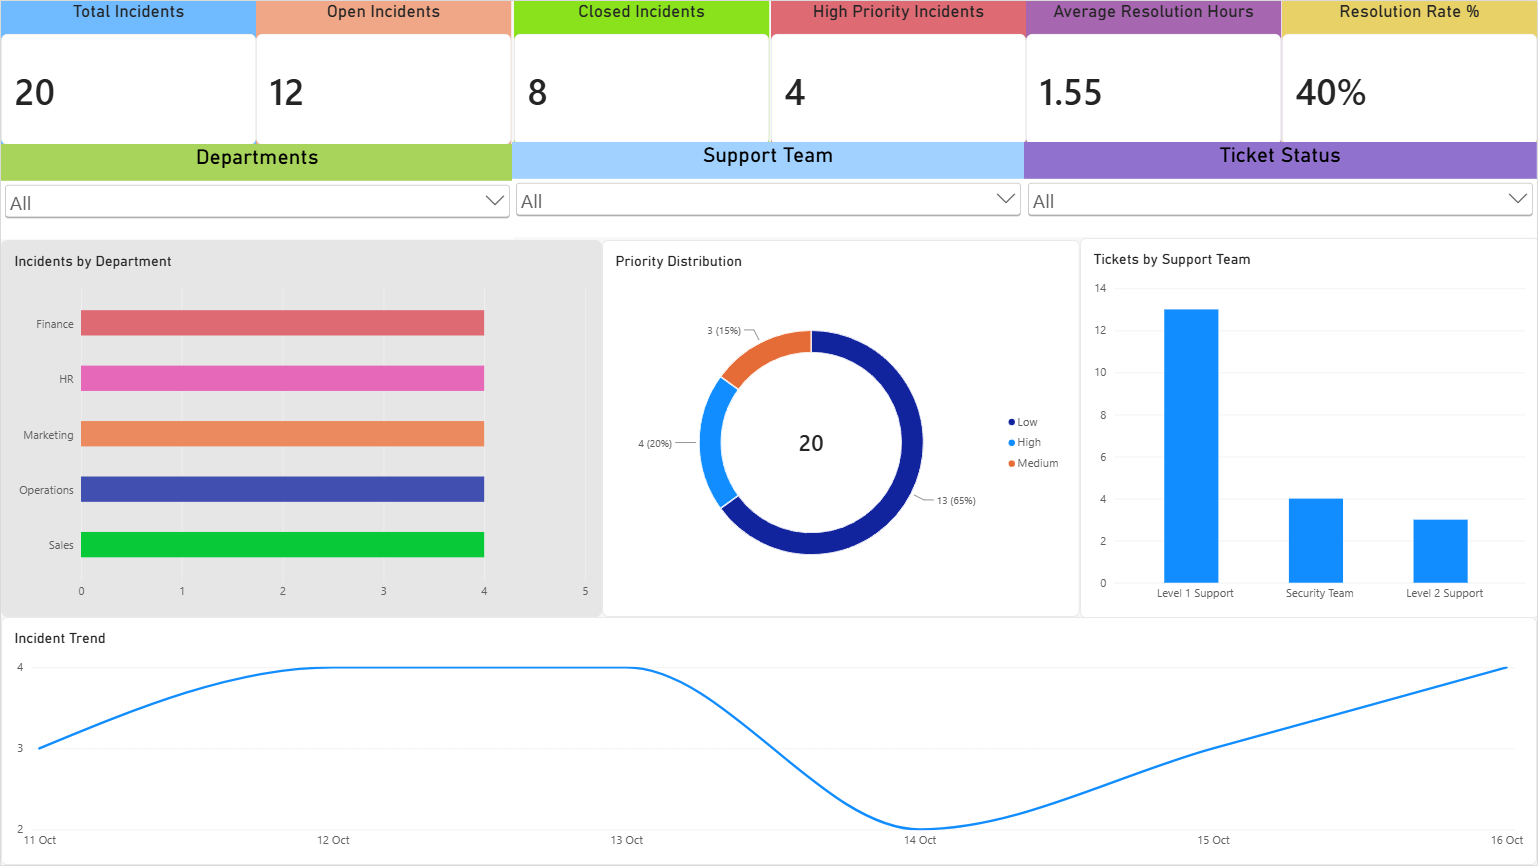

Layout of this report page (visuals, bound fields, positions):
{"tool":"powerbi","page":{"name":"Page 1","canvas":[1920,1080],"ordinal":0},"visuals":[{"type":"cardVisual","title":"Total Incidents","fields":{"Data":["CountNonNull(Requests.TicketID)"]},"box":[0,0,319,180],"z":0},{"type":"cardVisual","title":"Open Incidents","fields":{"Data":["CountNonNull(Requests.TicketState)"]},"box":[319.2,0,319,180],"z":1000},{"type":"cardVisual","title":"Closed Incidents","fields":{"Data":["CountNonNull(Requests.TicketState)"]},"box":[640.8,0,319,180],"z":2000},{"type":"cardVisual","title":"High Priority Incidents","fields":{"Data":["CountNonNull(Requests.Priority)"]},"box":[962.3,0,319,180],"z":3000},{"type":"cardVisual","title":"Average Resolution Hours","fields":{"Data":["Avg(Requests.ResolutionTimeHours)"]},"box":[1281.5,0,319,180],"z":4000},{"type":"cardVisual","title":"Resolution Rate %","fields":{"Data":["Requests.Resolution Rate %"]},"box":[1600.8,0,319,180],"z":5000},{"type":"clusteredBarChart","title":"Incidents by Department","fields":{"Category":["Requests.Department"],"Y":["CountNonNull(Requests.TicketID)"]},"box":[0,298.6,751,470.8],"z":6000},{"type":"donutChart","title":"Priority Distribution","fields":{"Category":["Requests.Priority"],"Y":["CountNonNull(Requests.TicketID)"]},"box":[751,298.6,597.1,470.8],"z":7000},{"type":"clusteredColumnChart","title":"Tickets by Support Team","fields":{"Category":["Requests.AssignedTo"],"Y":["CountNonNull(Requests.TicketID)"]},"box":[1348.1,296.3,574.2,475.4],"z":8000},{"type":"lineChart","title":"Incident Trend","fields":{"Category":["Requests.SubmitDate.Variation.Date Hierarchy.Year","Requests.SubmitDate.Variation.Date Hierarchy.Month","Requests.SubmitDate.Variation.Date Hierarchy.Day"],"Y":["CountNonNull(Requests.TicketID)"]},"box":[0,769.4,1920,310],"z":9000},{"type":"slicer","title":"Departments","fields":{"Values":["Requests.Department"]},"box":[0,179.1,640.8,119.4],"z":10000},{"type":"slicer","title":"Support Team","fields":{"Values":["Requests.AssignedTo"]},"box":[638.5,176.8,640.8,119.4],"z":11000},{"type":"slicer","title":"Ticket Status","fields":{"Values":["Requests.TicketState"]},"box":[1279.2,176.8,640.8,119.4],"z":12000}]}

Visuals, with their boxes in screenshot pixels (x1, y1, x2, y2), scaled from the page's 1920x1080 canvas onto the 1538x866 screenshot:
"Total Incidents" cardVisual: {"x1": 0, "y1": 0, "x2": 256, "y2": 144}
"Open Incidents" cardVisual: {"x1": 256, "y1": 0, "x2": 511, "y2": 144}
"Closed Incidents" cardVisual: {"x1": 513, "y1": 0, "x2": 769, "y2": 144}
"High Priority Incidents" cardVisual: {"x1": 771, "y1": 0, "x2": 1026, "y2": 144}
"Average Resolution Hours" cardVisual: {"x1": 1027, "y1": 0, "x2": 1282, "y2": 144}
"Resolution Rate %" cardVisual: {"x1": 1282, "y1": 0, "x2": 1537, "y2": 144}
"Incidents by Department" clusteredBarChart: {"x1": 0, "y1": 239, "x2": 602, "y2": 617}
"Priority Distribution" donutChart: {"x1": 602, "y1": 239, "x2": 1080, "y2": 617}
"Tickets by Support Team" clusteredColumnChart: {"x1": 1080, "y1": 238, "x2": 1537, "y2": 619}
"Incident Trend" lineChart: {"x1": 0, "y1": 617, "x2": 1537, "y2": 865}
"Departments" slicer: {"x1": 0, "y1": 144, "x2": 513, "y2": 239}
"Support Team" slicer: {"x1": 511, "y1": 142, "x2": 1025, "y2": 238}
"Ticket Status" slicer: {"x1": 1025, "y1": 142, "x2": 1537, "y2": 238}
